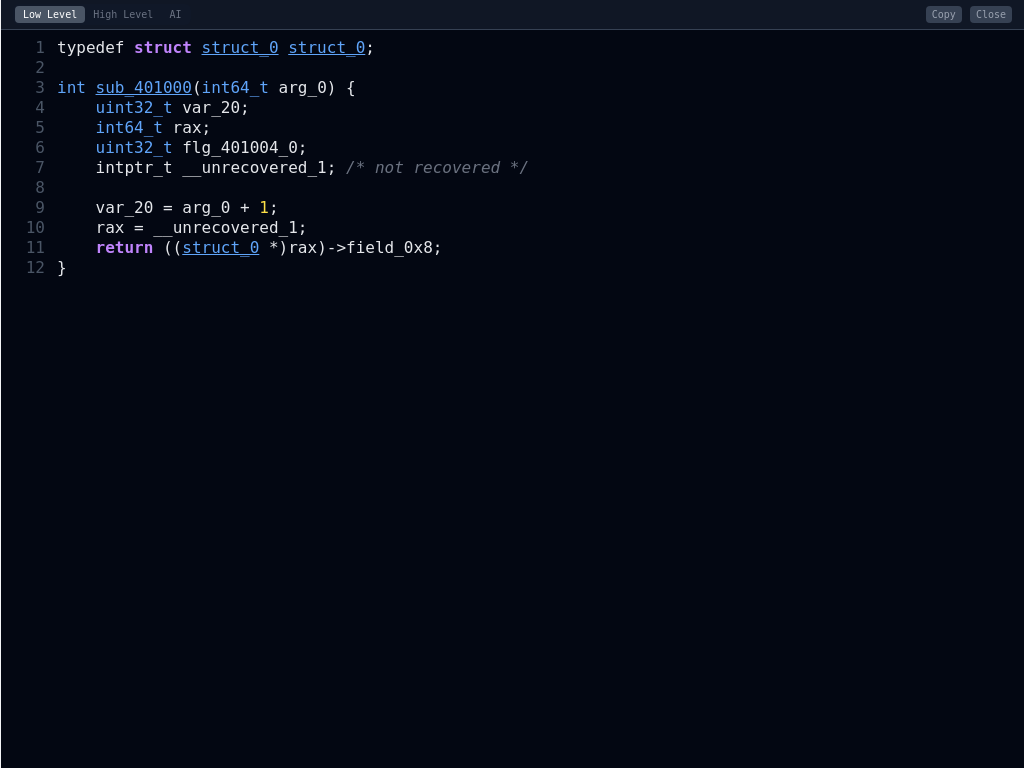
it: DecompileView variable rename — what the menu offers › offers NO rename entry on __unrecovered_1, and none on a register token
Right-click the 2nd text "__unrecovered_1" at (226, 228), box [153,218,298,237]
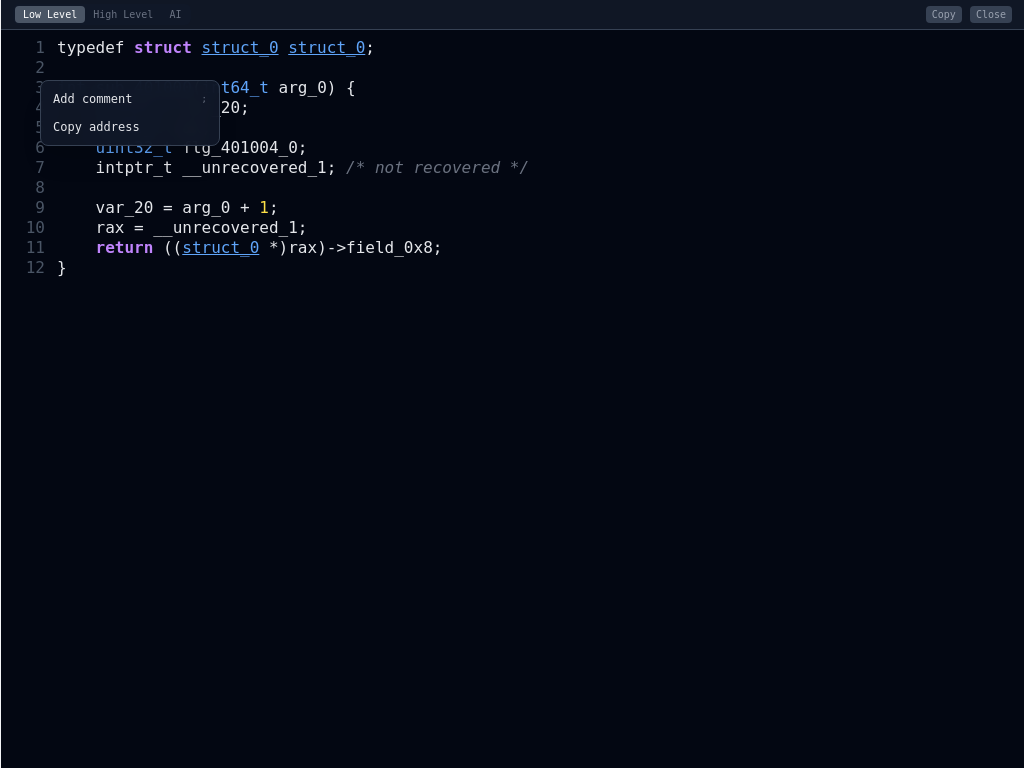
Now the text "Add comment" is shown, box [53,91,132,107]
Click the element that starts with "Low Level" at (512, 384), box [0,0,1023,767]
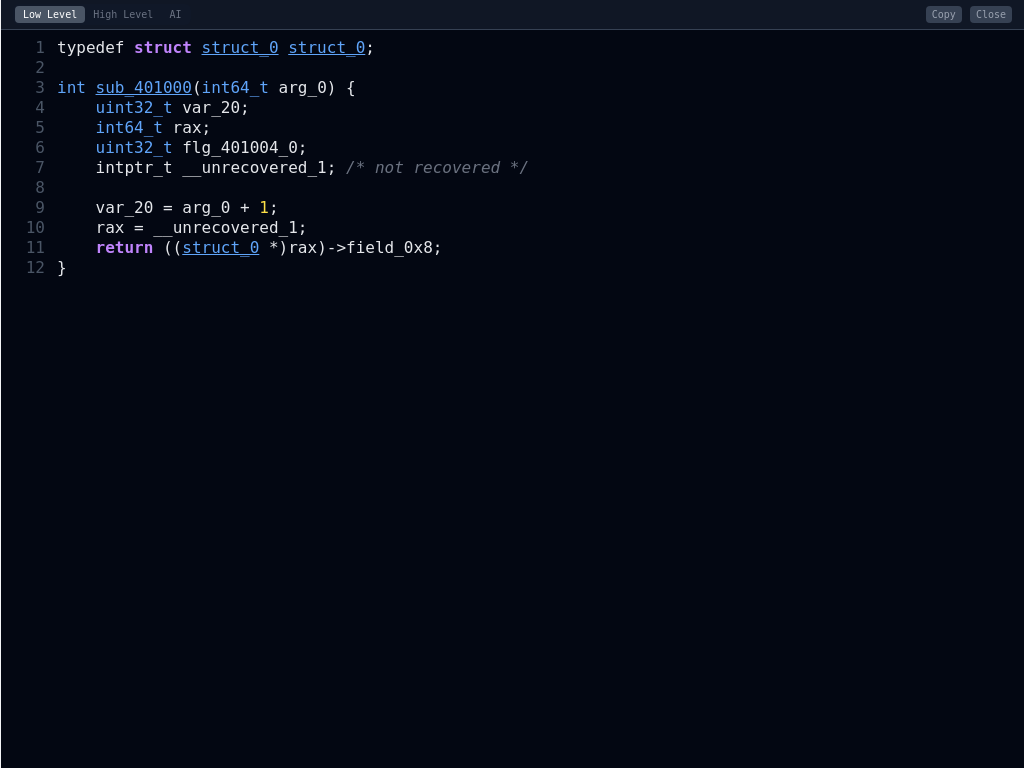
Right-click the 2nd text "rax" at (110, 228), box [96,218,124,237]
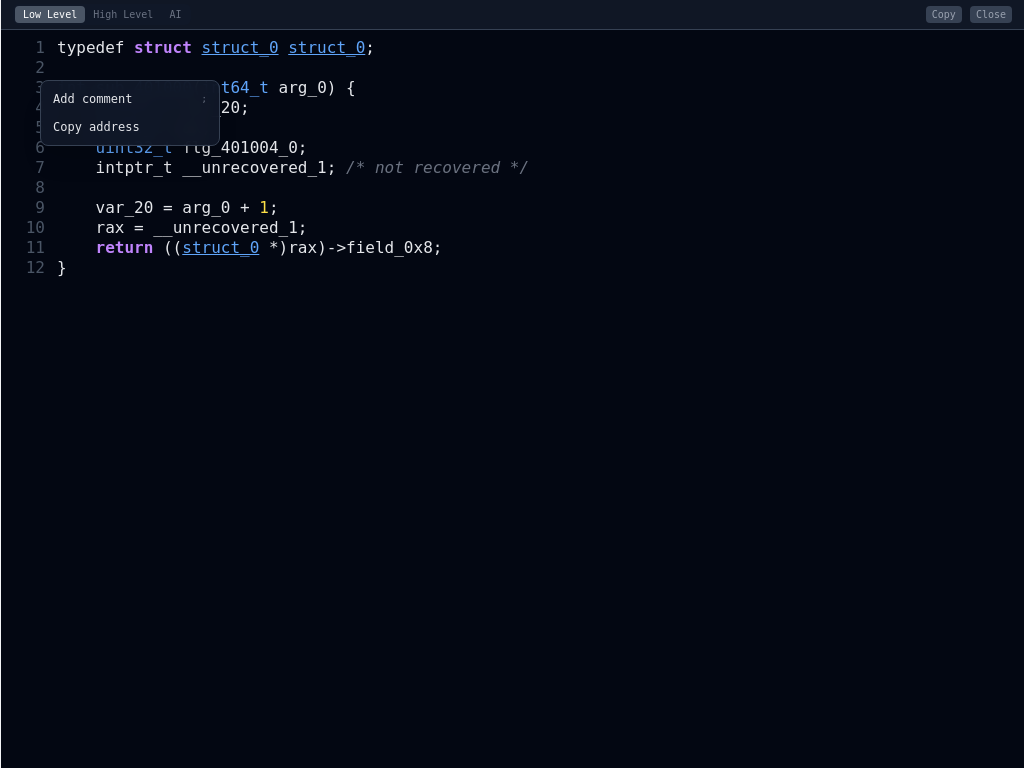
Now the text "Add comment" is shown, box [53,91,132,107]
